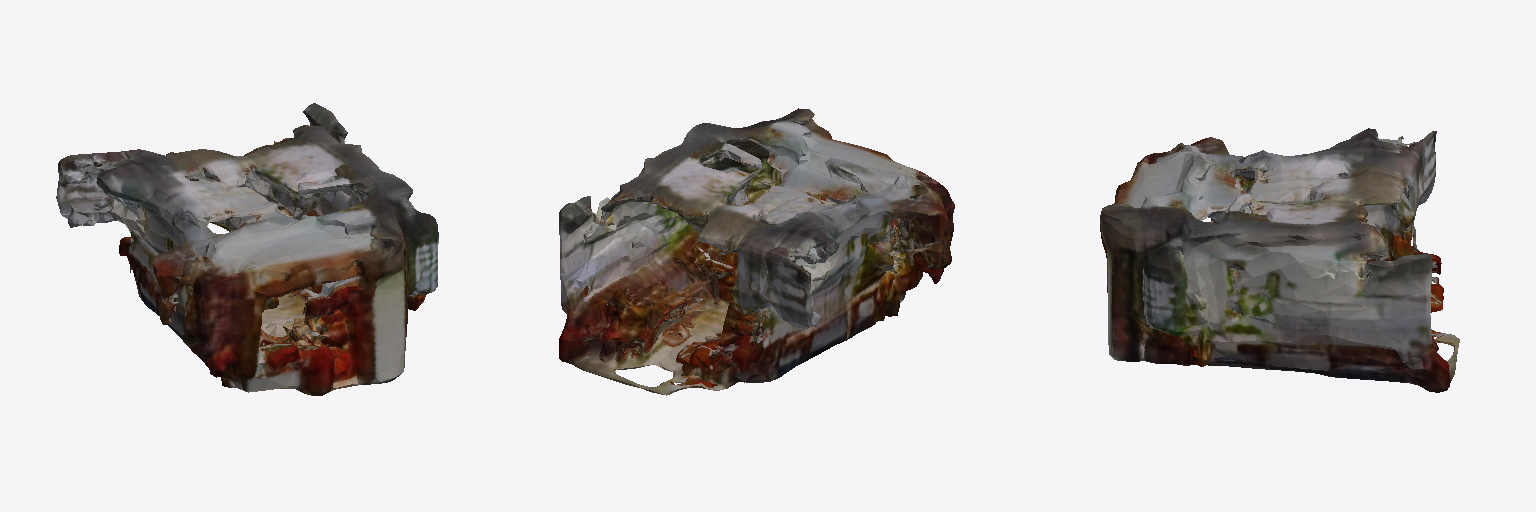
The picture shows the model from 3 angles: view 1: azimuth 30°, elevation 25°; view 2: azimuth 150°, elevation 25°; view 3: azimuth 270°, elevation 25°; orthographic projection.
Visible parts, largest first — view 1: mesh; view 2: mesh; view 3: mesh.
Part boxes in pixels (x1,y1,x2,y2): mesh: (56, 103, 438, 395); mesh: (559, 108, 954, 395); mesh: (1100, 128, 1459, 392).
Size of the model in its own units: 0.8948 by 0.4847 by 0.9999.
1 materials, 1 textured.